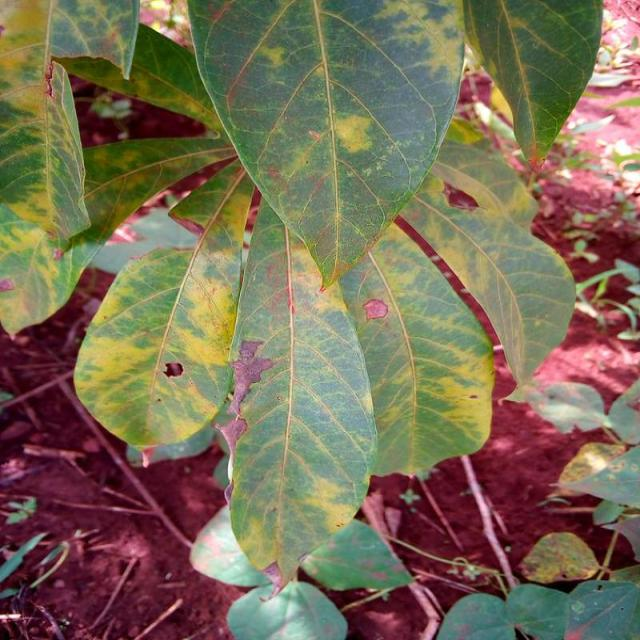cassava leaf: (2, 1, 604, 612), (184, 0, 466, 290), (225, 192, 378, 582), (72, 240, 243, 457), (462, 0, 604, 171)
